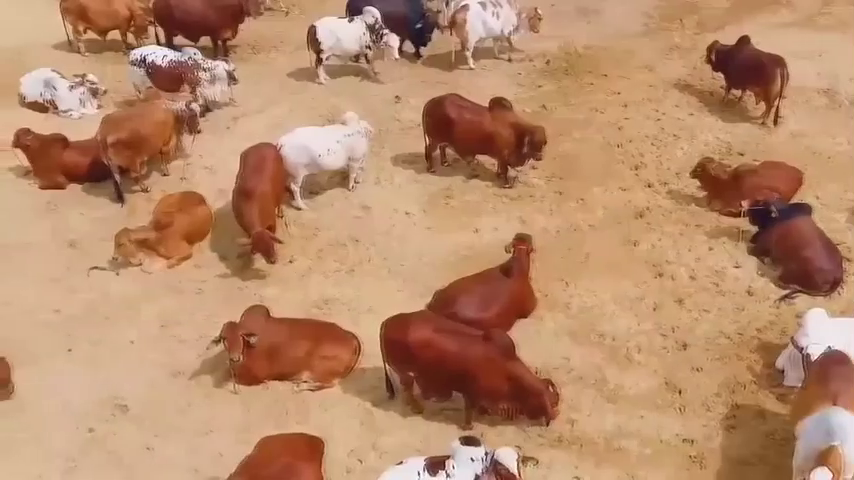bo: (369, 305, 567, 433), (422, 220, 563, 338), (415, 83, 560, 193), (212, 300, 364, 393), (89, 79, 211, 189), (738, 195, 851, 300), (273, 105, 382, 209), (109, 183, 214, 282), (352, 427, 542, 480), (233, 138, 295, 289), (121, 35, 241, 112), (782, 346, 850, 480), (684, 142, 805, 215), (702, 28, 790, 127), (7, 116, 114, 194), (298, 8, 404, 83), (764, 295, 853, 382), (446, 2, 555, 69), (148, 3, 271, 61), (234, 422, 345, 480), (49, 1, 157, 59), (16, 59, 110, 123), (342, 4, 446, 55)
